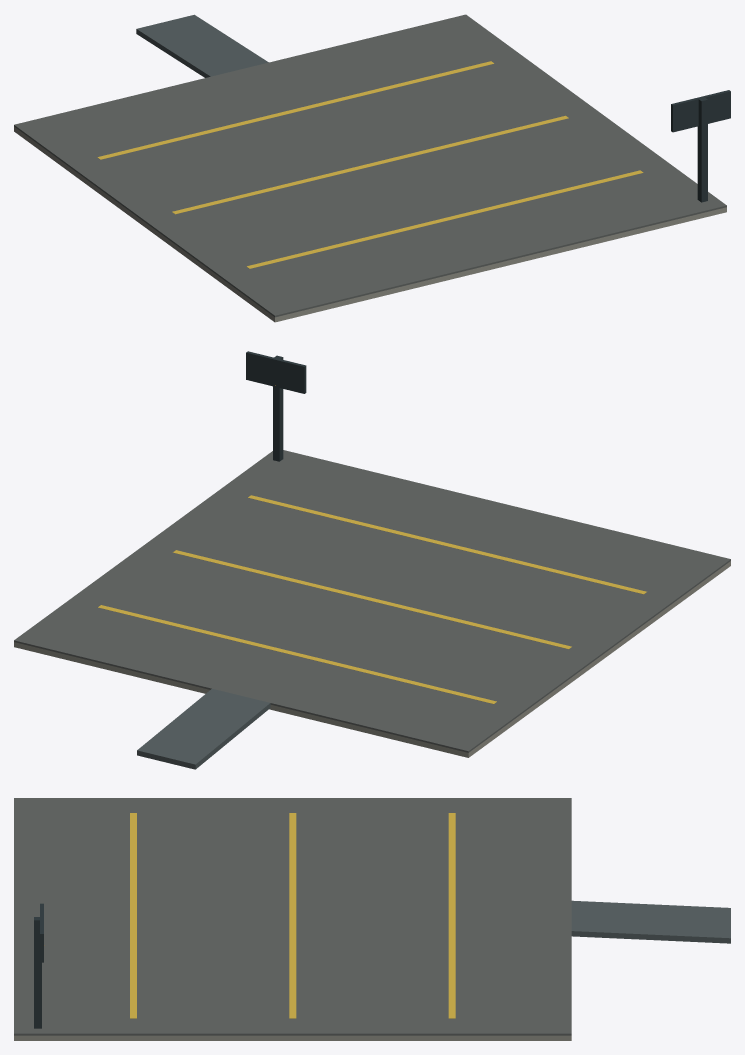
3 renders of one model, top to bottom at view 1: azimuth 30°, elevation 25°; view 2: azimuth 150°, elevation 25°; view 3: azimuth 270°, elevation 25°, orthographic. The views are drawn at different scales.
Visible parts, largest first — view 1: 十四米勤务机位尺寸派生; view 2: 十四米勤务机位尺寸派生; view 3: 十四米勤务机位尺寸派生.
Boxes of the visible parts, left/top/right/bottom form: 十四米勤务机位尺寸派生: left=14, top=14, right=730, bottom=322; 十四米勤务机位尺寸派生: left=14, top=351, right=730, bottom=769; 十四米勤务机位尺寸派生: left=14, top=798, right=730, bottom=1040.
Bounding box in the file's own units: 14.5 × 3.35 × 18.
6 materials, 6 textured.
